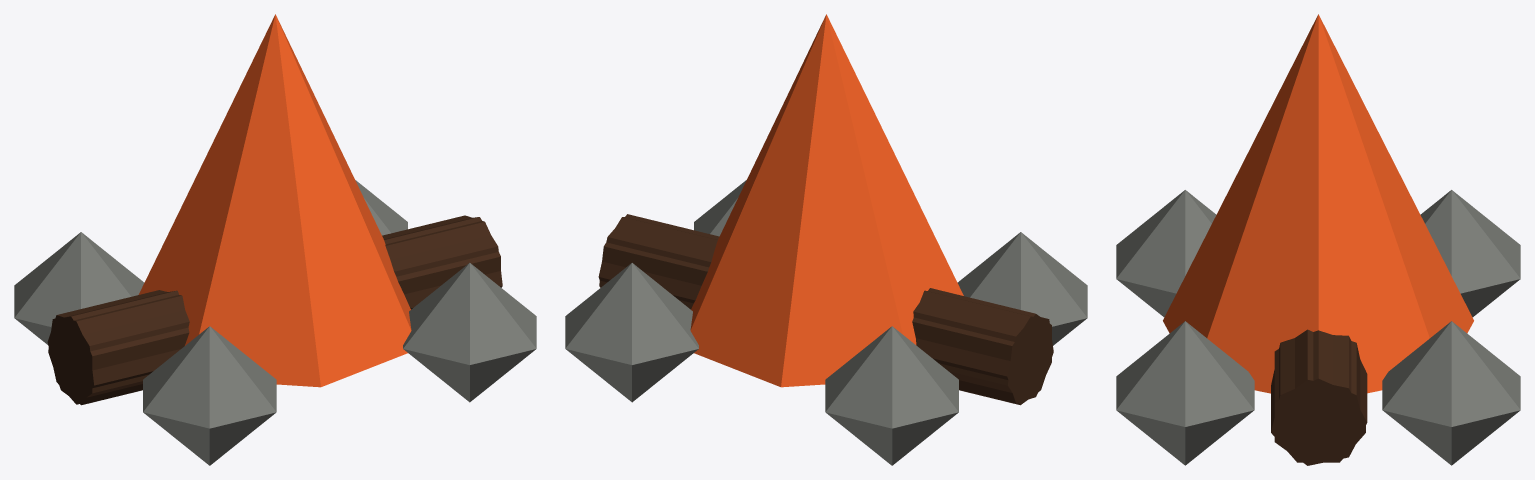
Rendered from campfire.obj.
The picture shows the model from 3 angles, left to right: view 1: azimuth 30°, elevation 25°; view 2: azimuth 150°, elevation 25°; view 3: azimuth 270°, elevation 25°; orthographic projection. The views are drawn at different scales.
Size of the model in its own units: 1.1 by 0.96 by 0.9118.
4 materials, 4 textured.
